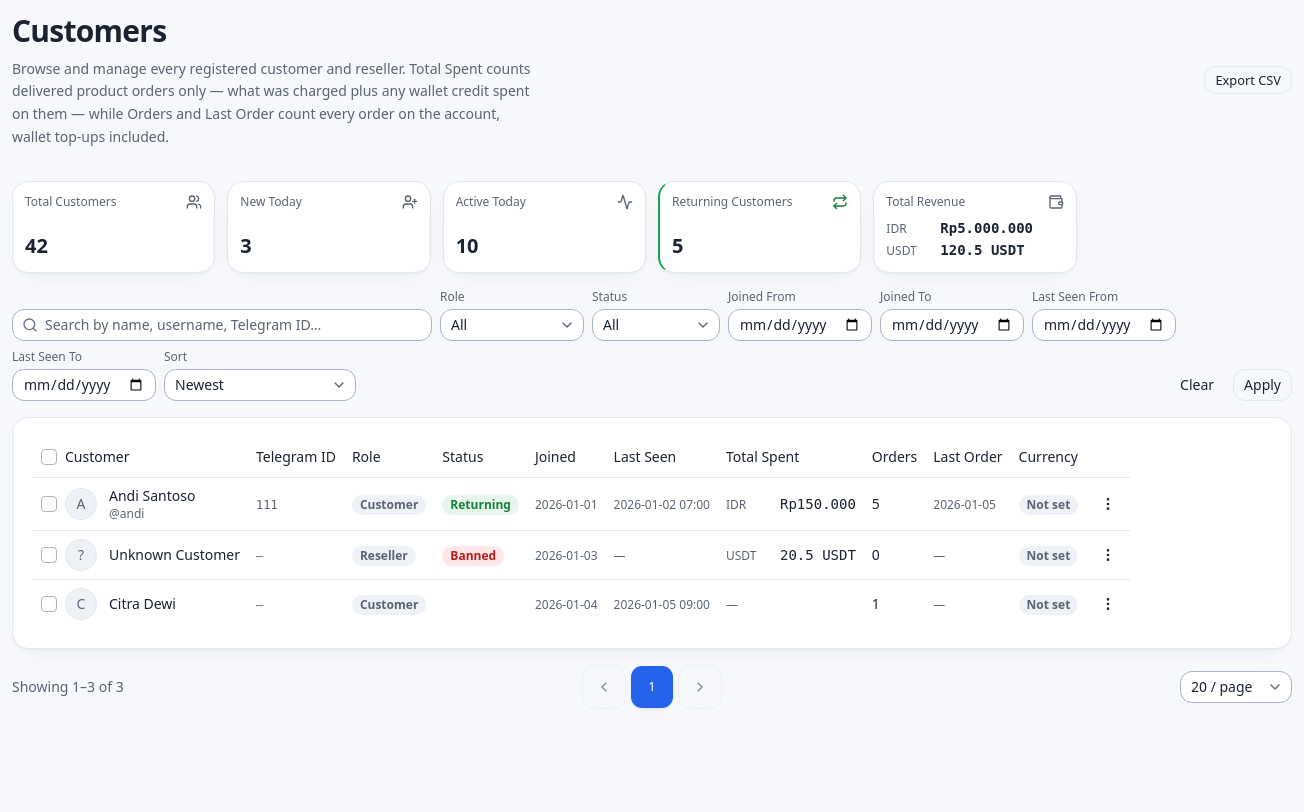
Test: UsersPage › row action menu: Copy Telegram ID copies to the clipboard and shows a success toast, only when telegramId is present
Check: the text "Andi Santoso" is shown, box [109, 486, 195, 506]
Click the button named "actions for andi santoso": click(1108, 504) [1094, 490, 1122, 518]
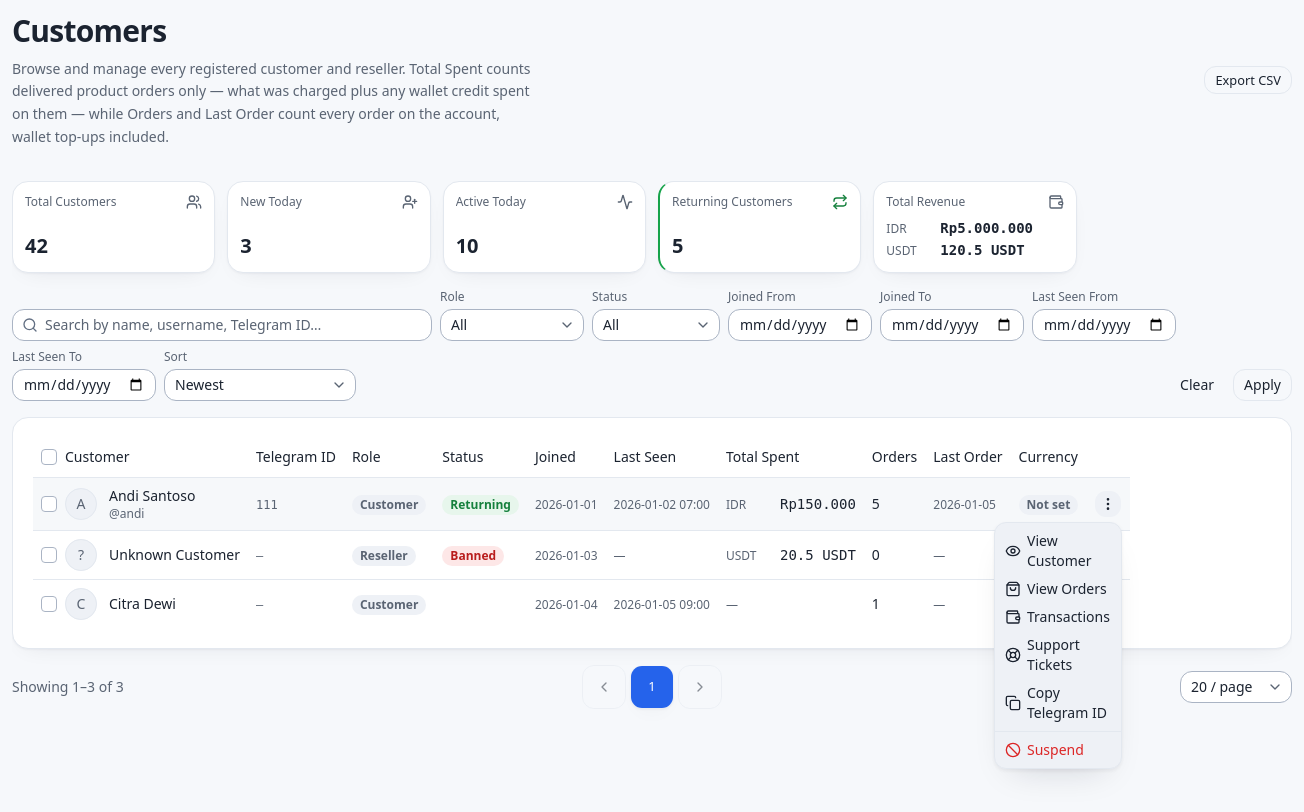
Click the menu item "Copy Telegram ID": click(1058, 703) [999, 679, 1117, 727]
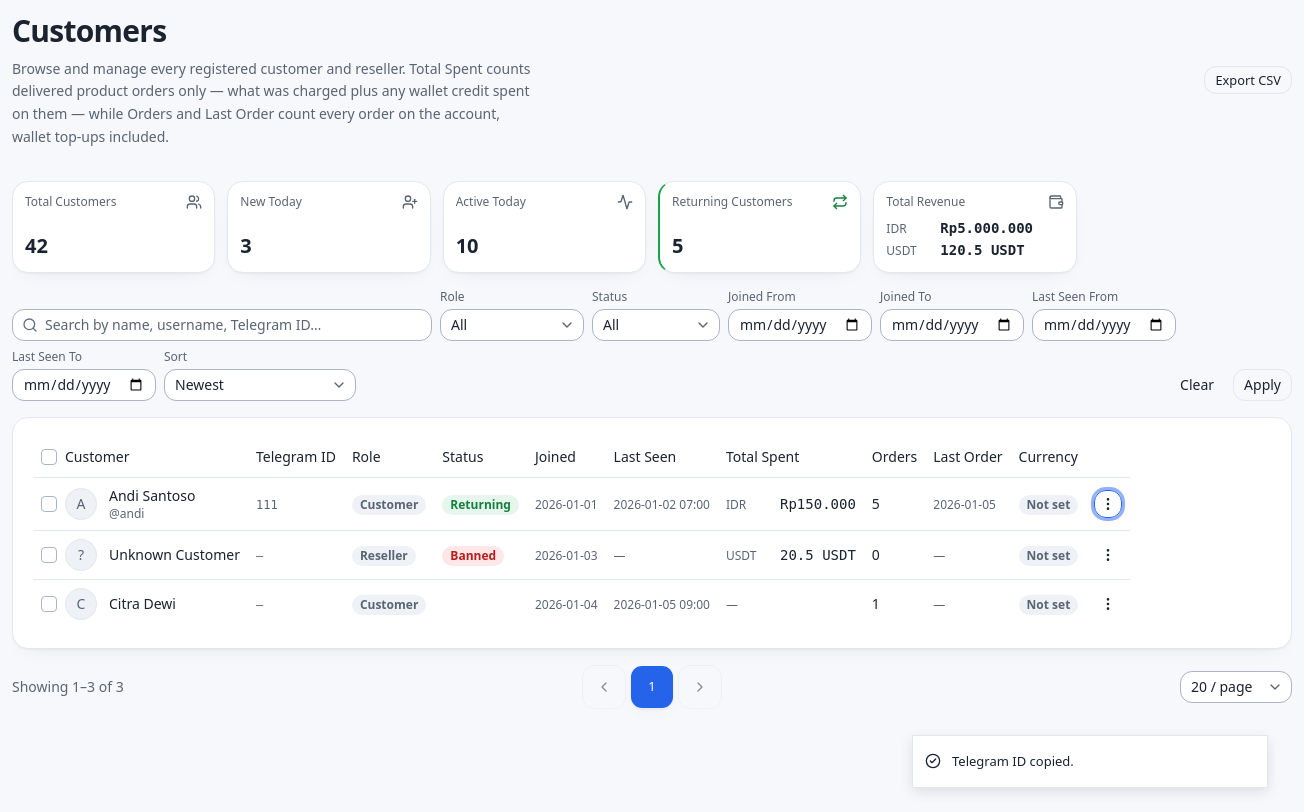
Check: the text "Telegram ID copied." is shown, box [952, 752, 1074, 771]
